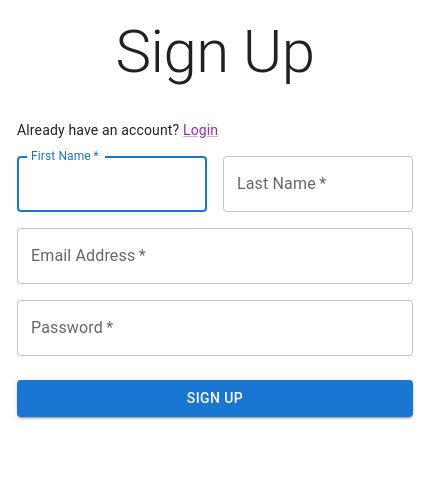
Test: Sign Up Page - Error Handling
// Fill out the form
Type "Jane" into the field labelled "First Name *" at (112, 184), box [17,156,207,212]
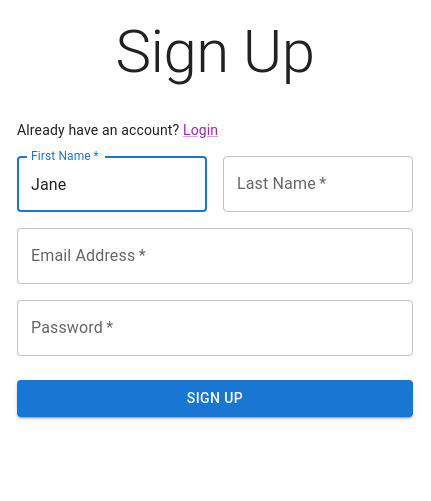
Type "Doe" into the field labelled "Last Name *" at (318, 184), box [223,156,413,212]
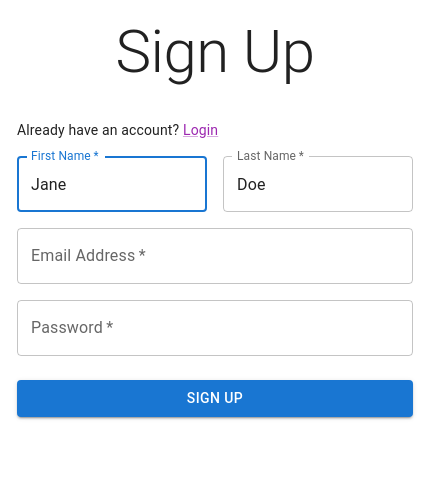
Type "jane@example.com" into the field labelled "Email Address *" at (215, 256), box [17,228,413,284]
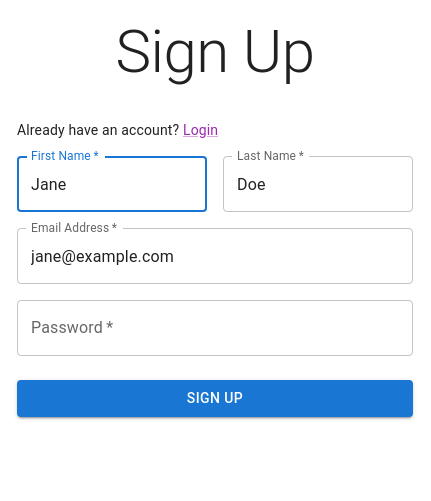
Type "password123" into the password field labelled "Password *" at (215, 328), box [17,300,413,356]
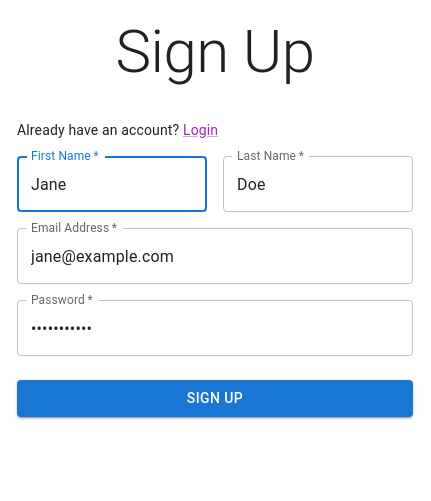
// Submit the form
Click the button "Sign Up" at (215, 398), box [17,380,413,416]
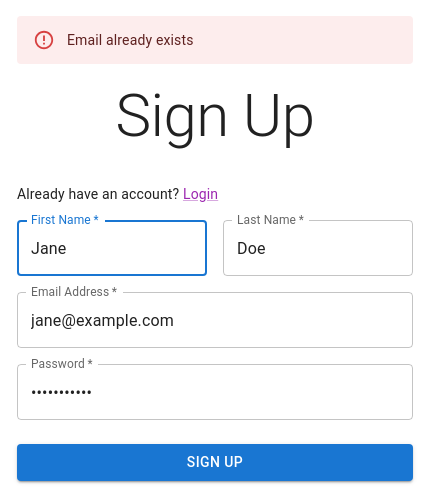
Now the text "Email already exists" is shown, box [67,32,194,48]
